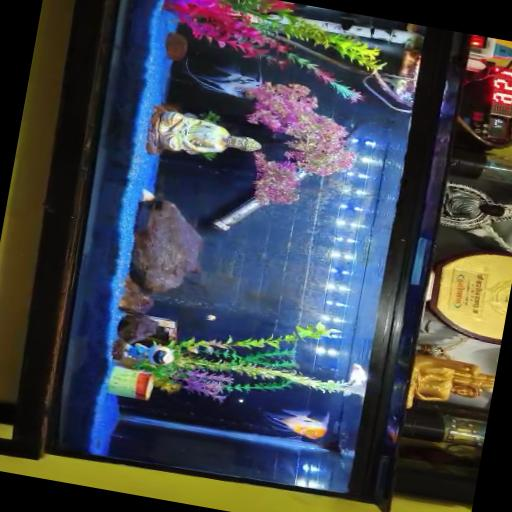Fish: (185, 59, 262, 97), (263, 409, 328, 438), (343, 363, 366, 395)
